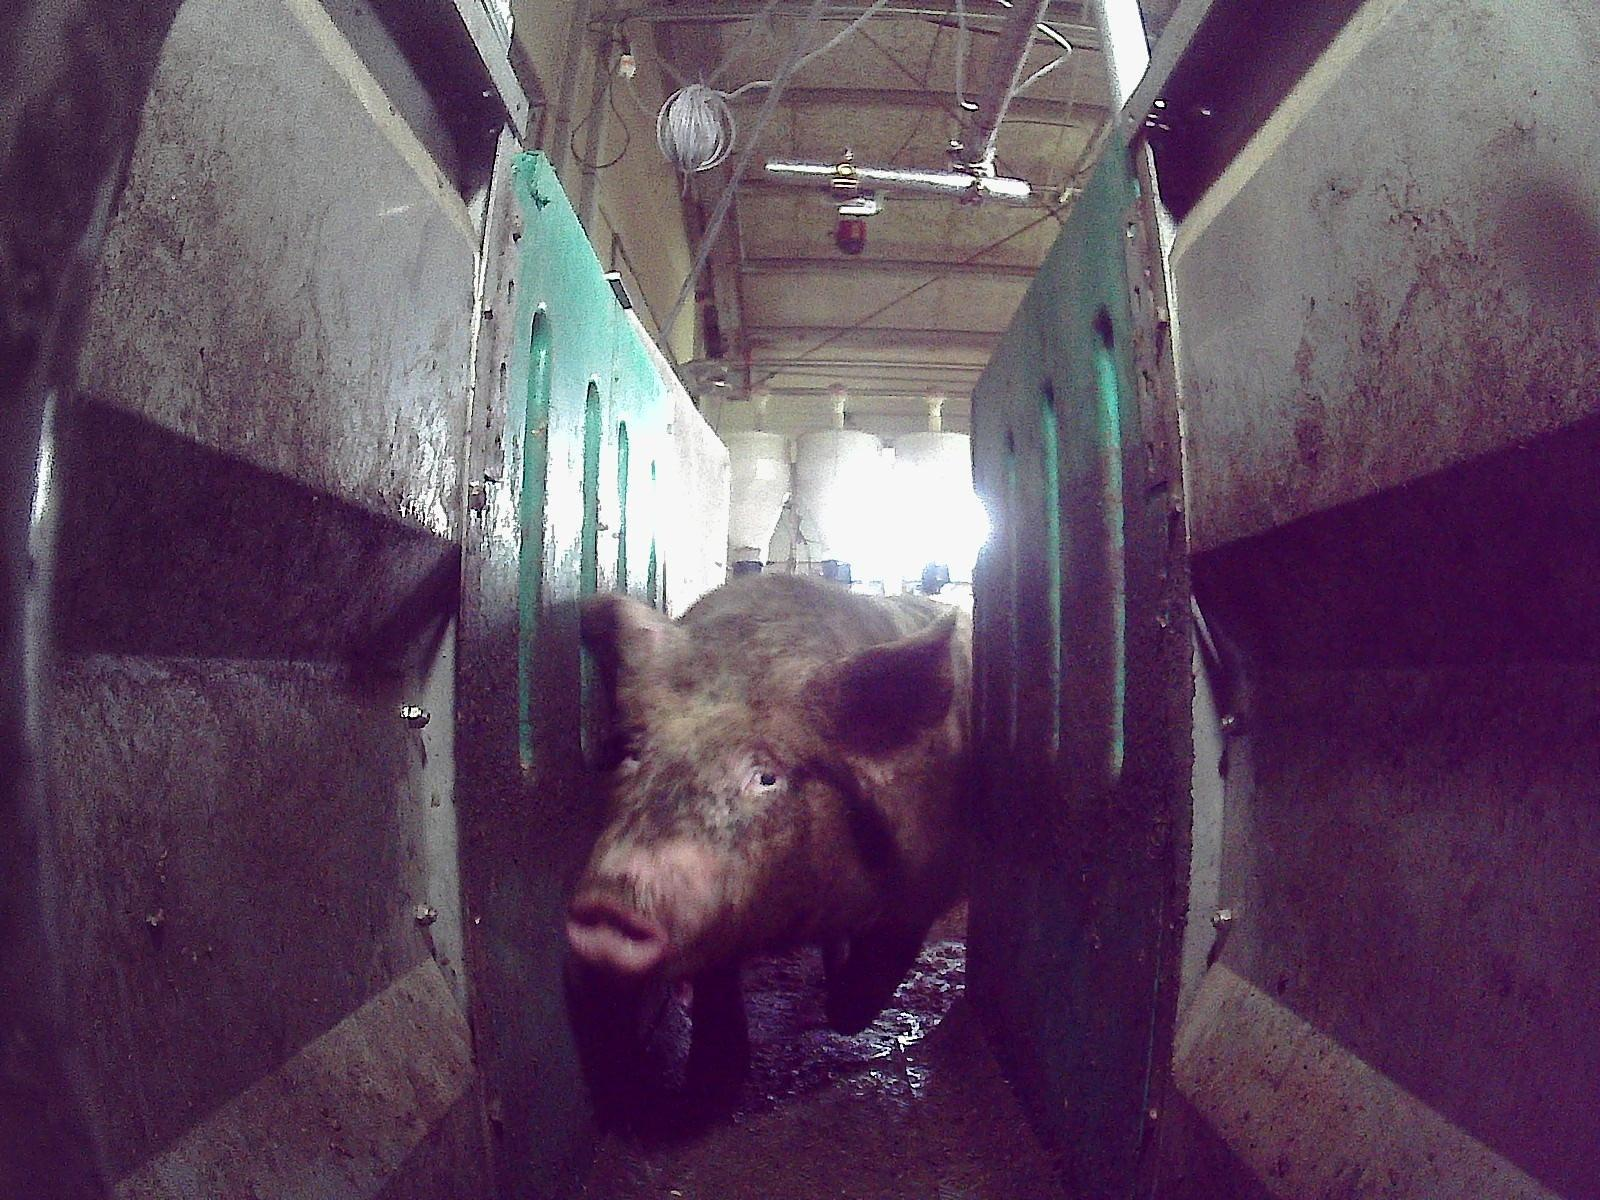Face: (564, 655, 838, 977)
